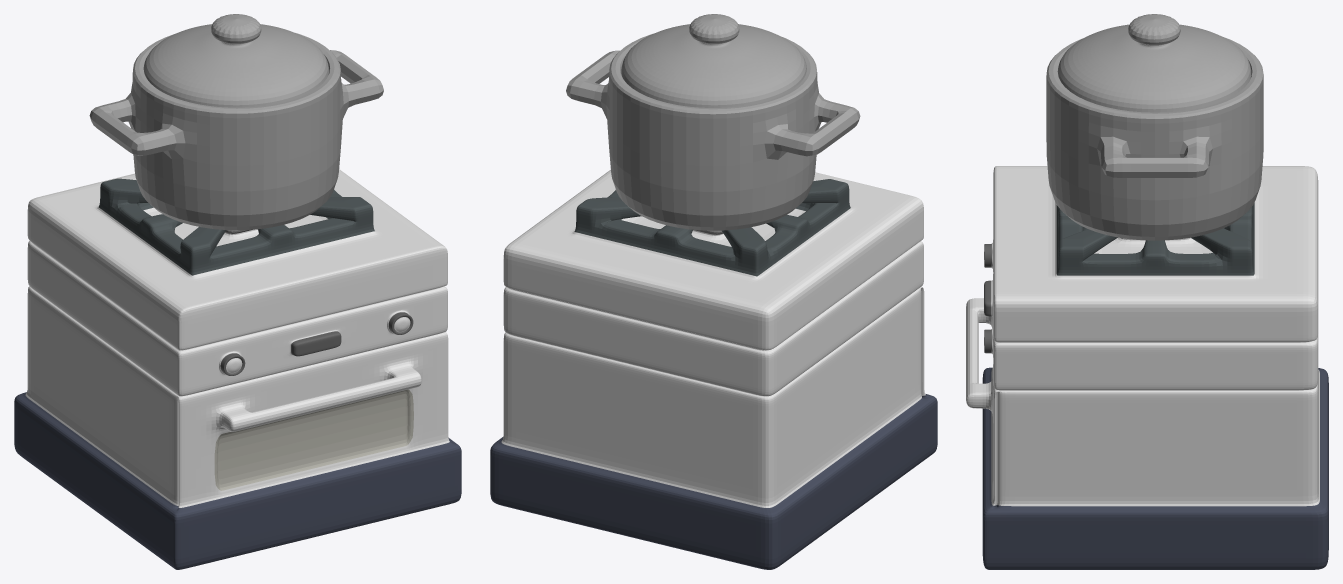
The model's file is Gas_range_pot.fbx.
3 views of the same model, side by side, from view 1: azimuth 30°, elevation 25°; view 2: azimuth 150°, elevation 25°; view 3: azimuth 270°, elevation 25° (orthographic). The views are drawn at different scales.
Parts seen in each view (by area): view 1: 큐브.055, 원형.037, 원형.036; view 2: 큐브.055, 원형.037, 원형.036; view 3: 큐브.055, 원형.037, 원형.036.
Boxes of the visible parts, x1=… form: 큐브.055: x1=14, y1=169, x2=461, y2=569; 원형.037: x1=89, y1=33, x2=383, y2=230; 원형.036: x1=143, y1=14, x2=329, y2=107; 큐브.055: x1=490, y1=169, x2=937, y2=569; 원형.037: x1=566, y1=34, x2=860, y2=230; 원형.036: x1=621, y1=14, x2=806, y2=107; 큐브.055: x1=966, y1=166, x2=1328, y2=569; 원형.037: x1=1046, y1=37, x2=1263, y2=240; 원형.036: x1=1057, y1=14, x2=1251, y2=112.
Size of the model in its own units: 315 by 481 by 330.
